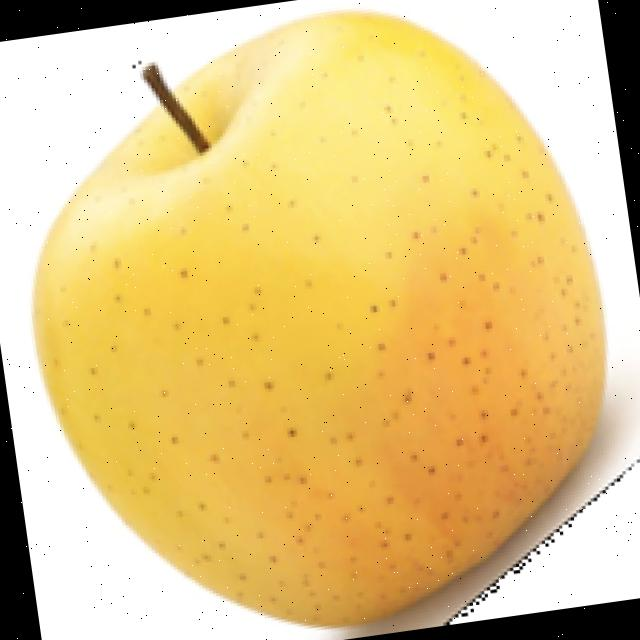apple: (26, 4, 640, 640)
